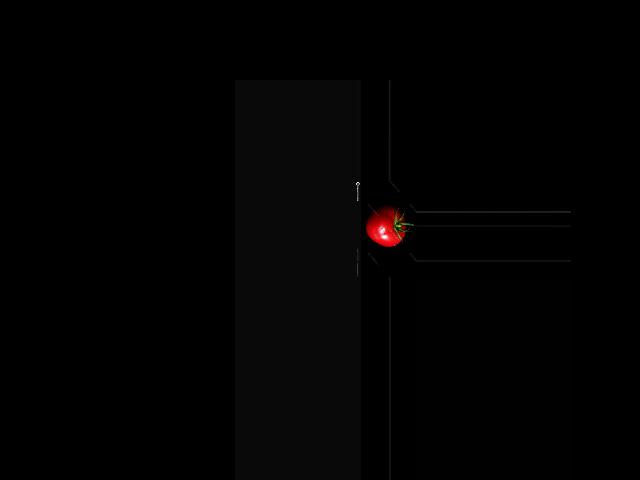tomato: (365, 204, 406, 247)
